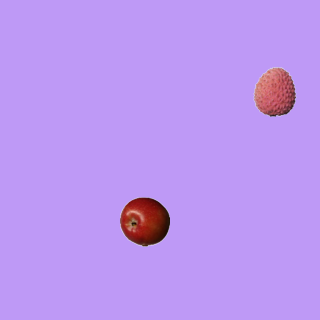Apple Braeburn: (119, 196, 169, 246)
Lychee: (249, 66, 299, 116)
